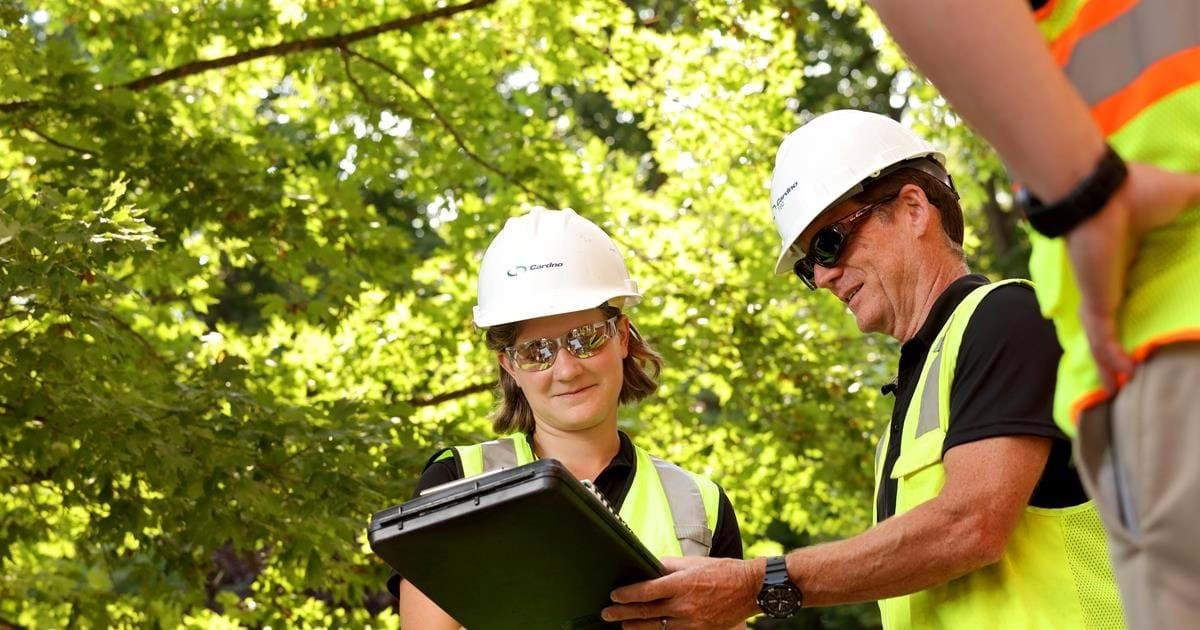helmet: (766, 113, 947, 293), (475, 209, 639, 330)
